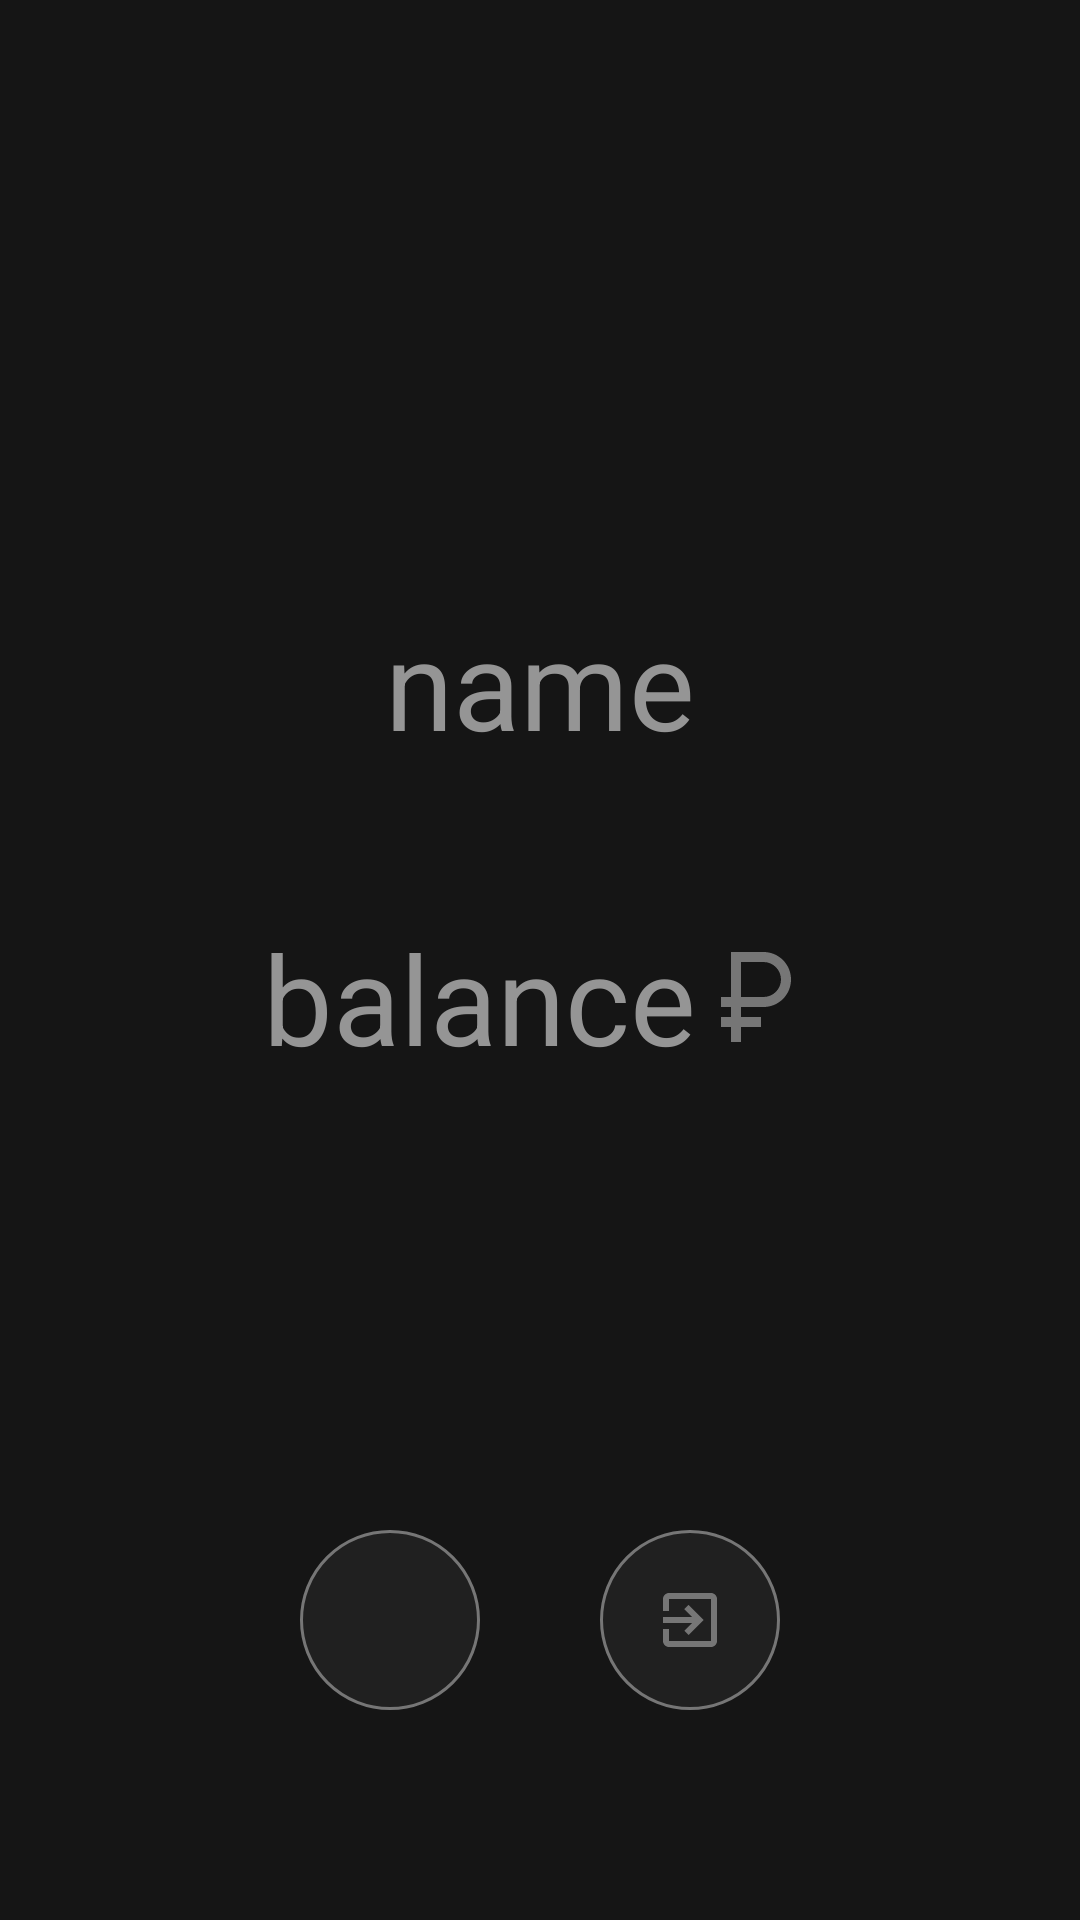

Where to tap for icons on this 1080 × 1920 app screen, as [x,y]:
exit: [690,1620]
